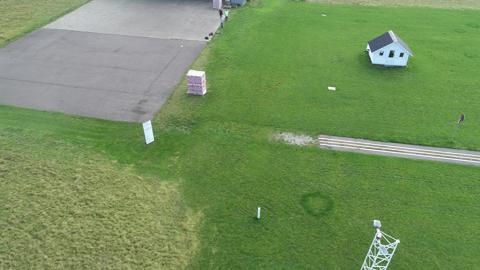RockwoolPallet: (185, 69, 208, 96)
